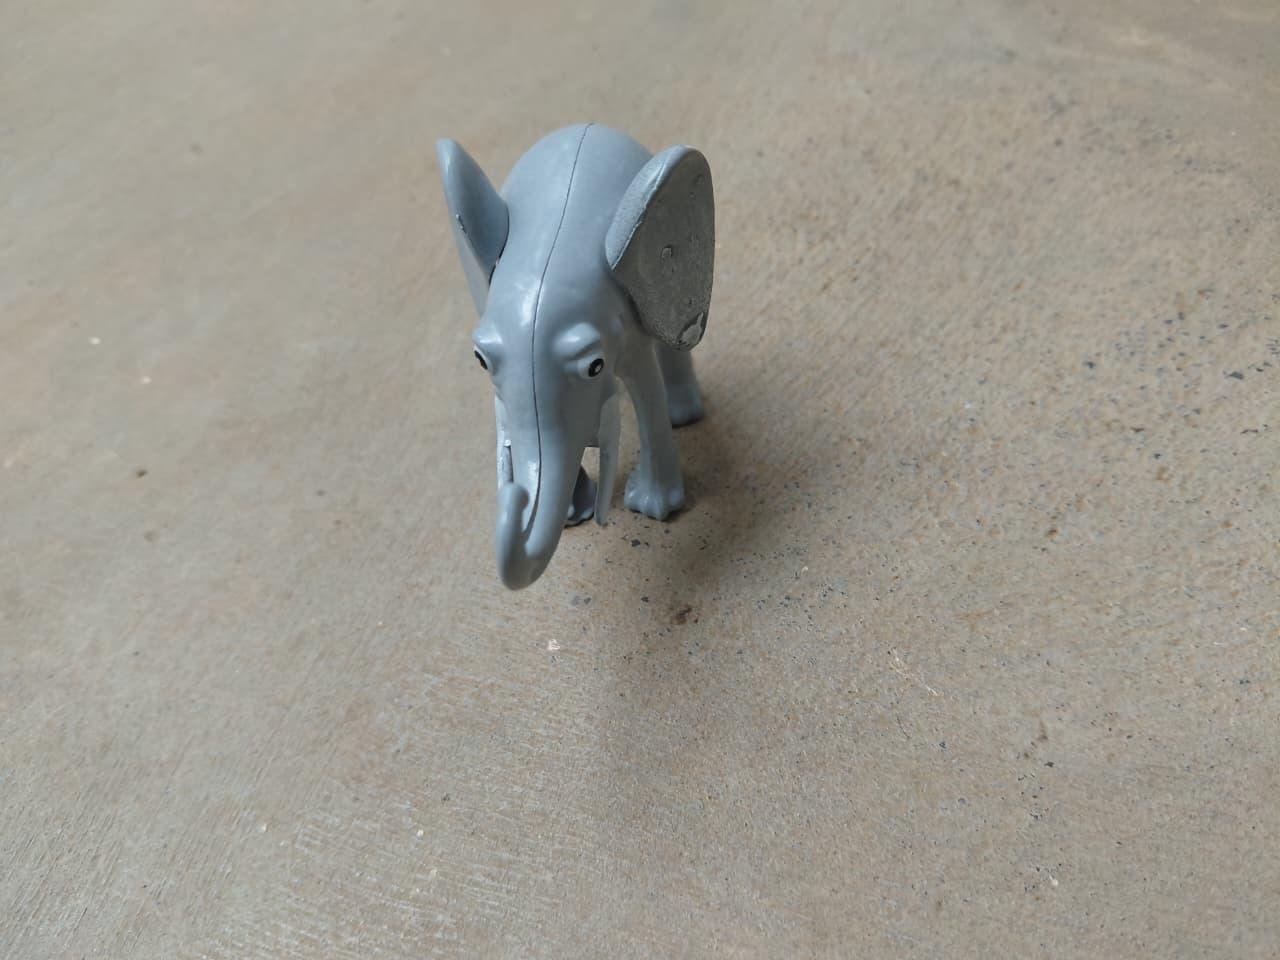elephant: (428, 103, 747, 593)
